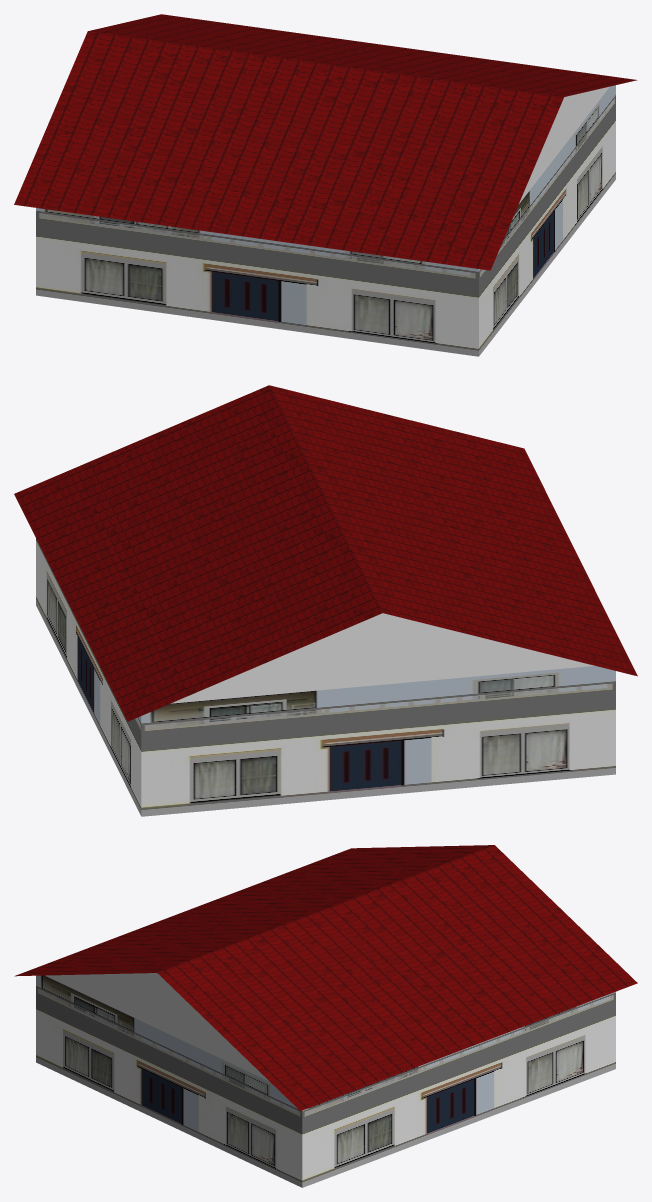
3 renders of one model, top to bottom at view 1: azimuth 30°, elevation 25°; view 2: azimuth 150°, elevation 25°; view 3: azimuth 270°, elevation 25°, orthographic. The views are drawn at different scales.
Visible parts, largest first — view 1: CityEngineMaterial_17_m, CityEngineMaterial_7_m, CityEngineMaterial_3_m; view 2: CityEngineMaterial_17_m, CityEngineMaterial_7_m, CityEngineMaterial_3_m; view 3: CityEngineMaterial_17_m, CityEngineMaterial_7_m, CityEngineMaterial_3_m.
Boxes of the visible parts, x1,y1,x2,y2 form: CityEngineMaterial_17_m: (14, 14, 637, 270); CityEngineMaterial_7_m: (36, 85, 615, 356); CityEngineMaterial_3_m: (518, 86, 609, 204); CityEngineMaterial_17_m: (14, 385, 637, 721); CityEngineMaterial_7_m: (36, 538, 615, 816); CityEngineMaterial_3_m: (171, 613, 594, 703); CityEngineMaterial_17_m: (14, 845, 637, 1110); CityEngineMaterial_7_m: (36, 975, 615, 1187); CityEngineMaterial_3_m: (45, 973, 269, 1081).
Bounding box in the file's own units: 38.99 × 10.84 × 39.1.
